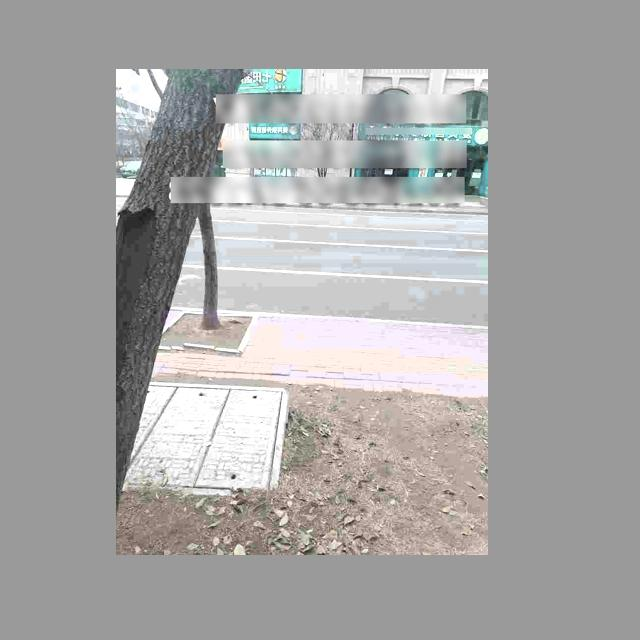good: (116, 381, 290, 496)
